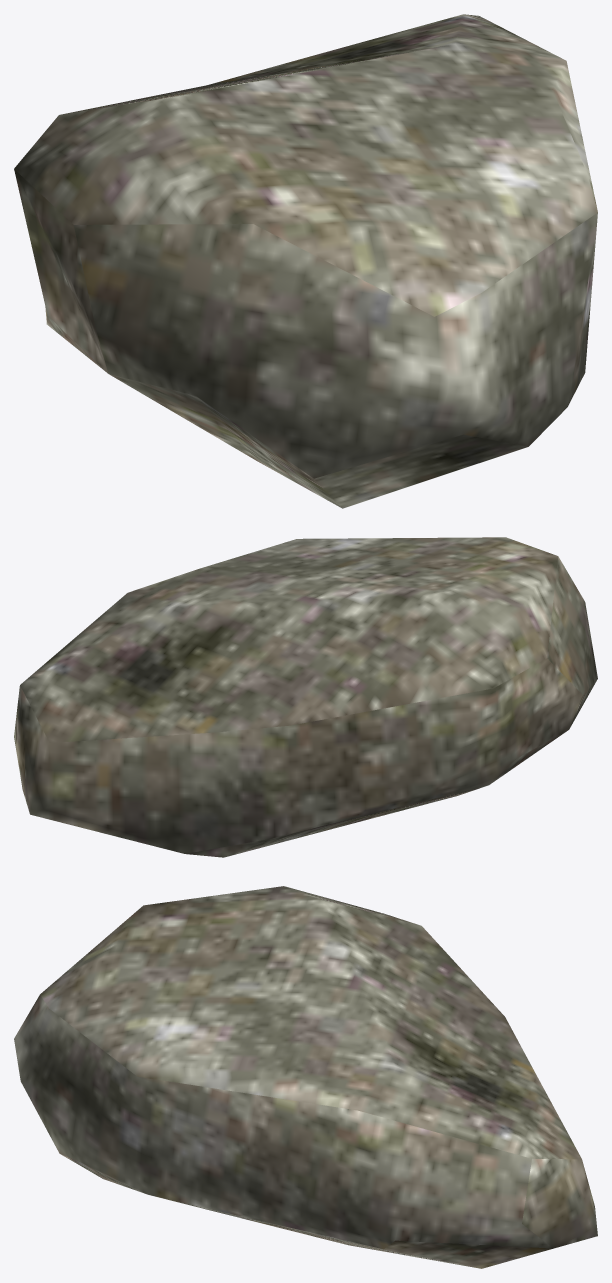
Rendered from SM_Small_Rock_01_LOD1.fbx.
The picture shows the model from 3 angles, top to bottom: view 1: azimuth 30°, elevation 25°; view 2: azimuth 150°, elevation 25°; view 3: azimuth 270°, elevation 25°; orthographic projection. The views are drawn at different scales.
Parts seen in each view (by area): view 1: SM_Small_Rock_01_LOD1; view 2: SM_Small_Rock_01_LOD1; view 3: SM_Small_Rock_01_LOD1.
Boxes of the visible parts, <box> form: SM_Small_Rock_01_LOD1: <box>14,14,597,508</box>; SM_Small_Rock_01_LOD1: <box>14,537,597,857</box>; SM_Small_Rock_01_LOD1: <box>14,886,597,1268</box>.
Bounding box in the file's own units: 57.36 × 32.95 × 65.66.
